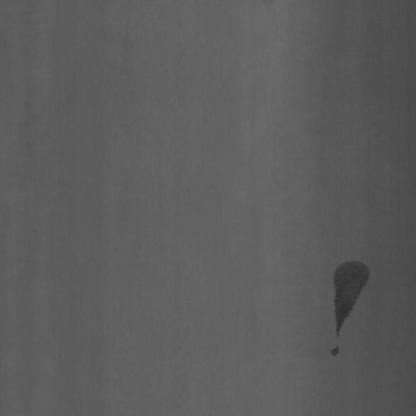oil_spot: (325, 245, 373, 362)
